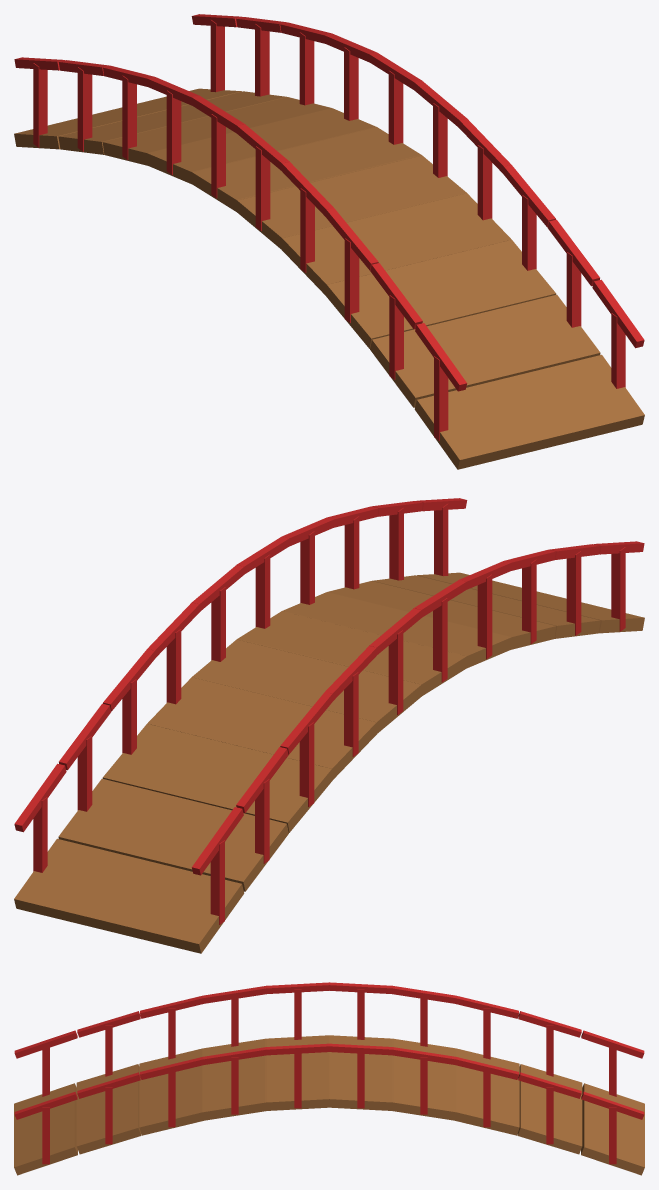
File: env_pbg_footbridge.fbx
3 views of the same model, one above another, from view 1: azimuth 30°, elevation 25°; view 2: azimuth 150°, elevation 25°; view 3: azimuth 270°, elevation 25° (orthographic). The views are drawn at different scales.
Parts seen in each view (by area): view 1: env_pbg_footbridge_geo_LOD0; view 2: env_pbg_footbridge_geo_LOD0; view 3: env_pbg_footbridge_geo_LOD0.
Part boxes in pixels (box(x1,y1,x2,y2)): env_pbg_footbridge_geo_LOD0: box(14, 14, 644, 469); env_pbg_footbridge_geo_LOD0: box(14, 498, 644, 953); env_pbg_footbridge_geo_LOD0: box(14, 982, 644, 1175).
Size of what is drawn, in the model's own units: 2.42 by 2.26 by 10.02.
